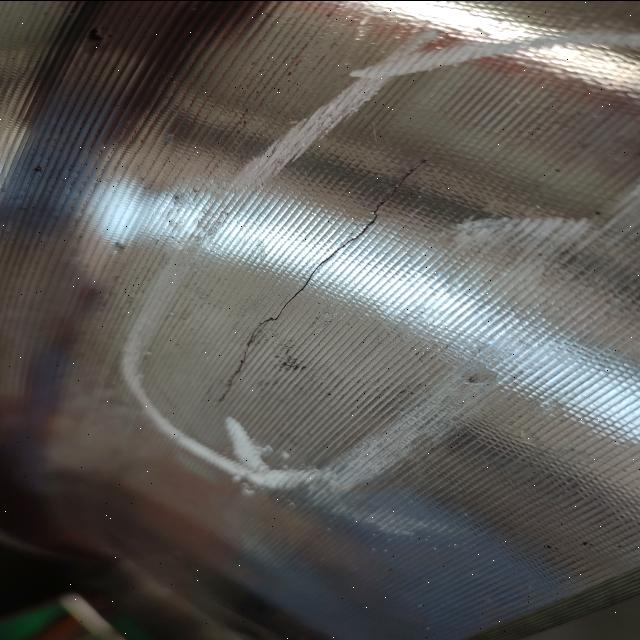fatigue crack: (215, 152, 443, 410)
